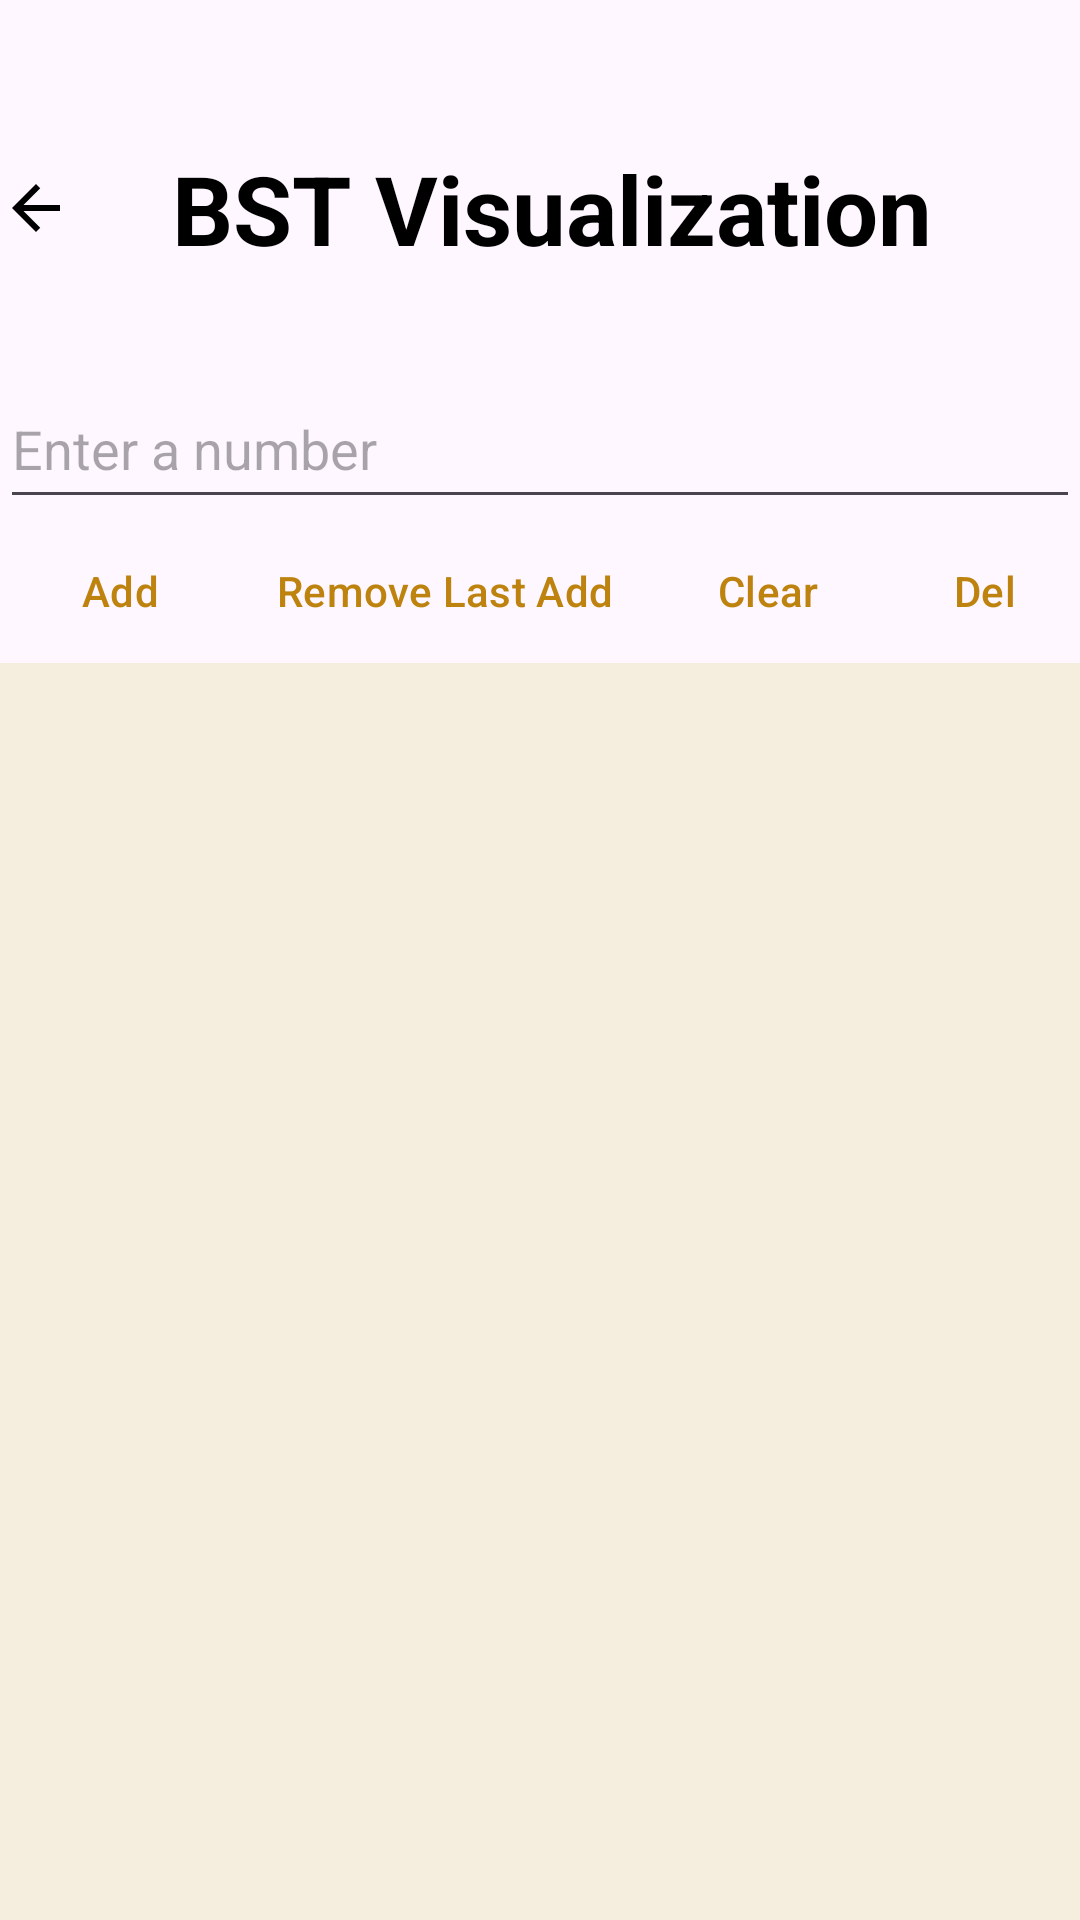

Icons on this 1080*1920 Android screen, each with its box as (x1, y1, x2, y2):
Back Button: (12, 184, 60, 232)
